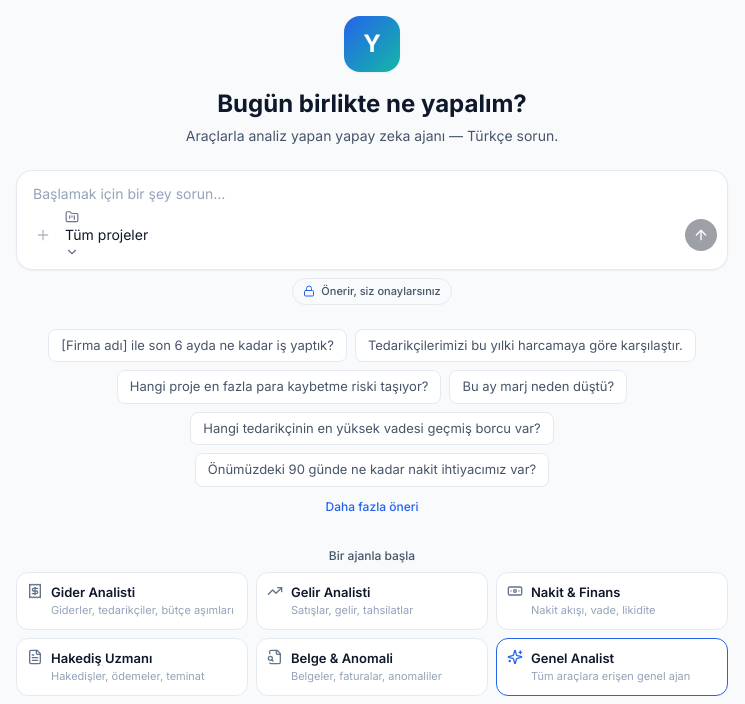
Test: AIAssistantPage live streaming (CR-011-D) › on final with an empty answer renders the Turkish no-data fallback
Type "boş cevap?" into the text box at (372, 188), box top-left (17, 171), bottom-right (727, 206)
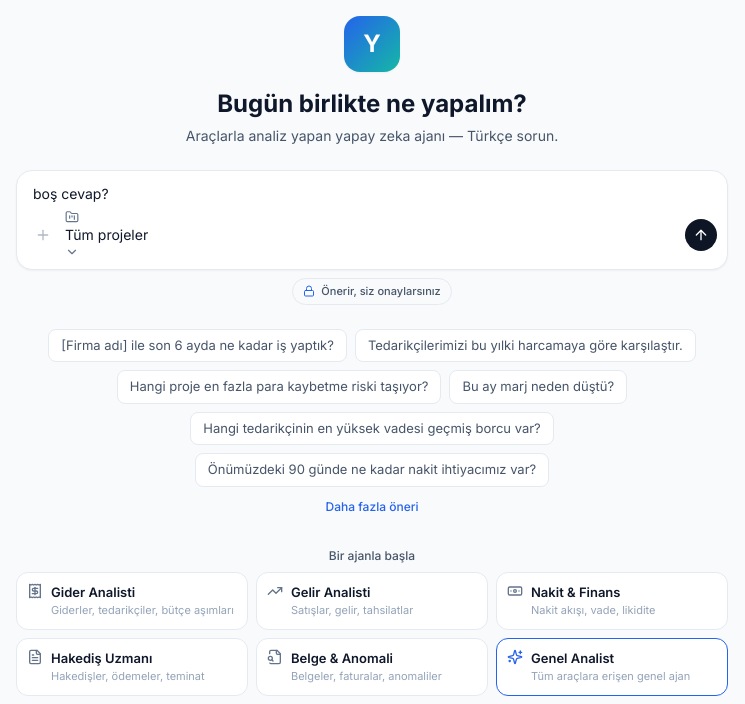
Click the button named "Gönder" at (701, 234), box top-left (685, 218), bottom-right (717, 250)
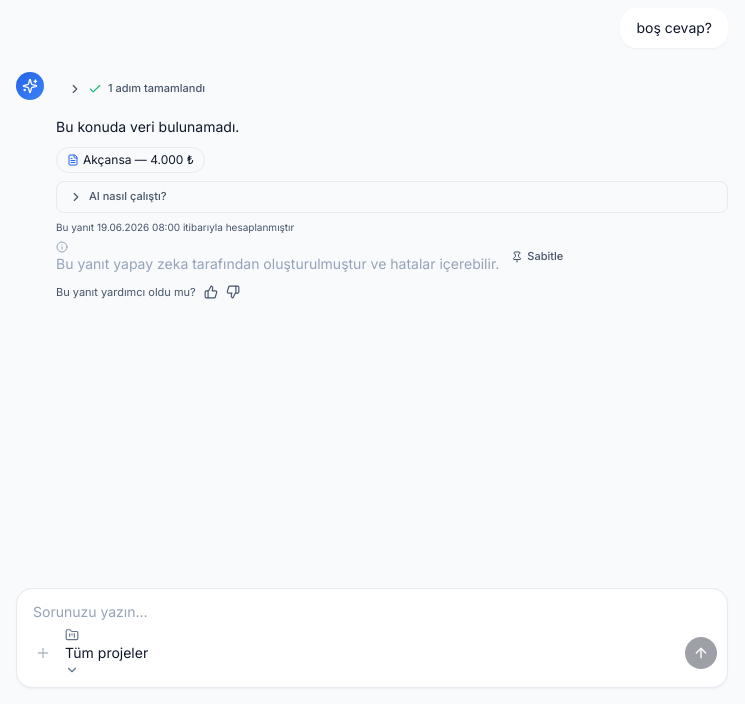
Now the text "Bu konuda veri bulunamadı." is shown, box top-left (56, 118), bottom-right (239, 135)
